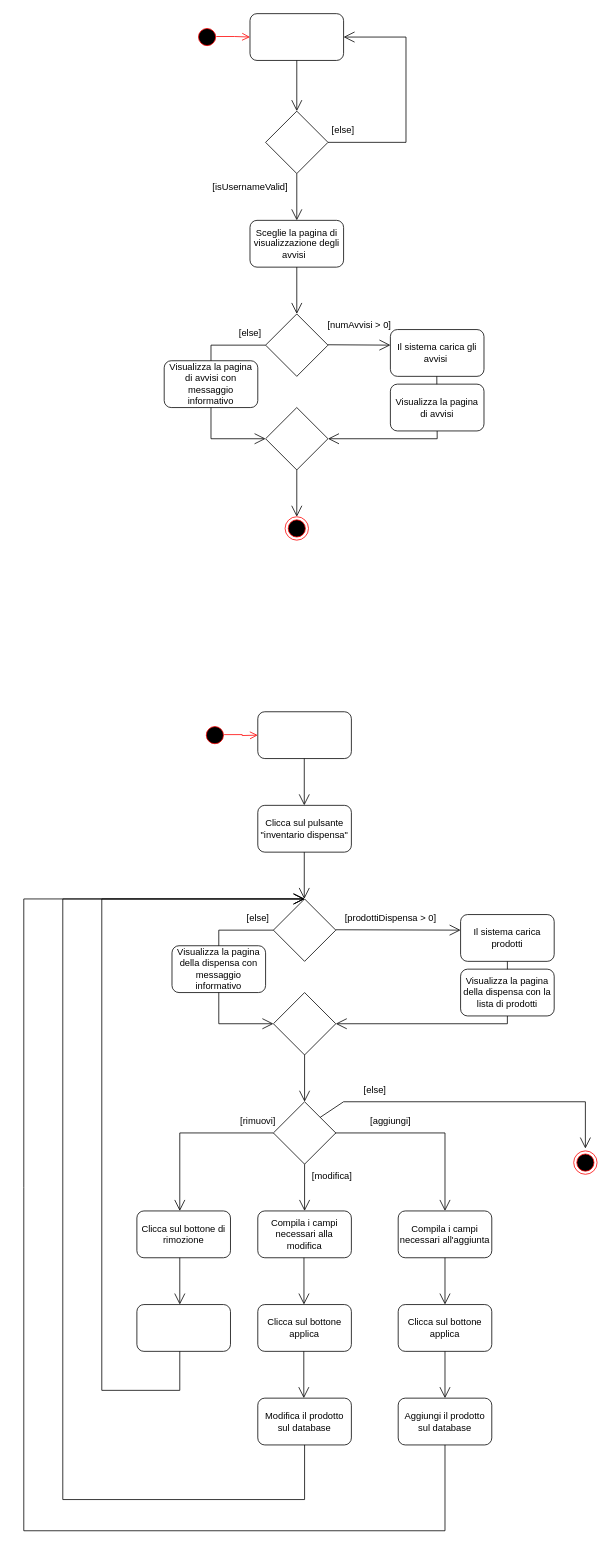
The diagram is 611 pixels wide and 1555 high, and some of its shapes have lost their labels. Each missing label, with the centre of its shape:
"Cancella dal prodotto selezionato dal database" goes at pixel 183 1327.
"Login" goes at pixel 296 36.
"Sceglie la pagina di menù delle funzionalità" goes at pixel 304 735.
